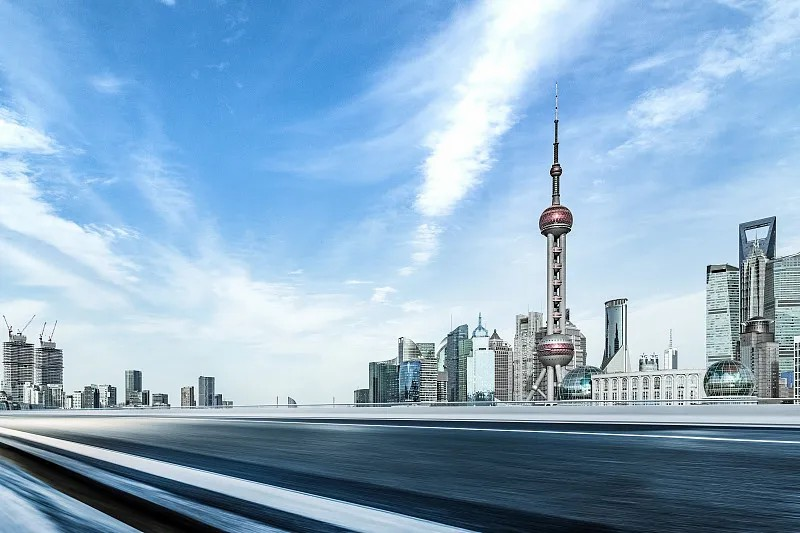Oriental: (529, 82, 575, 400)
